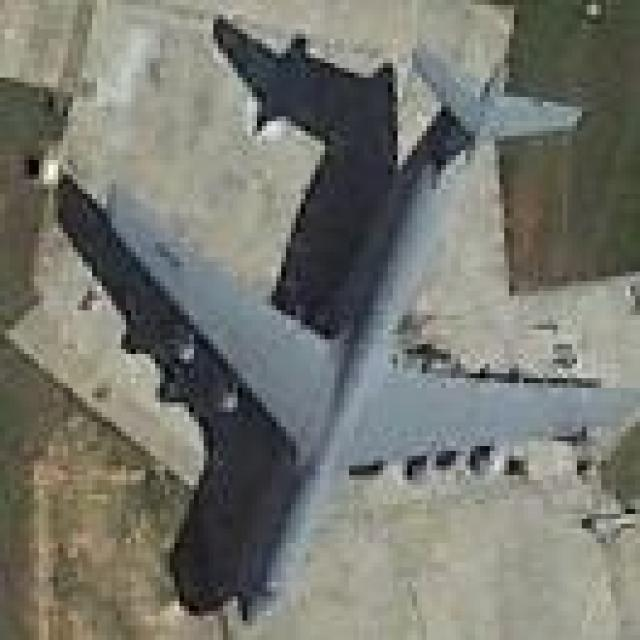C-5_TopDown: (52, 6, 633, 629)
